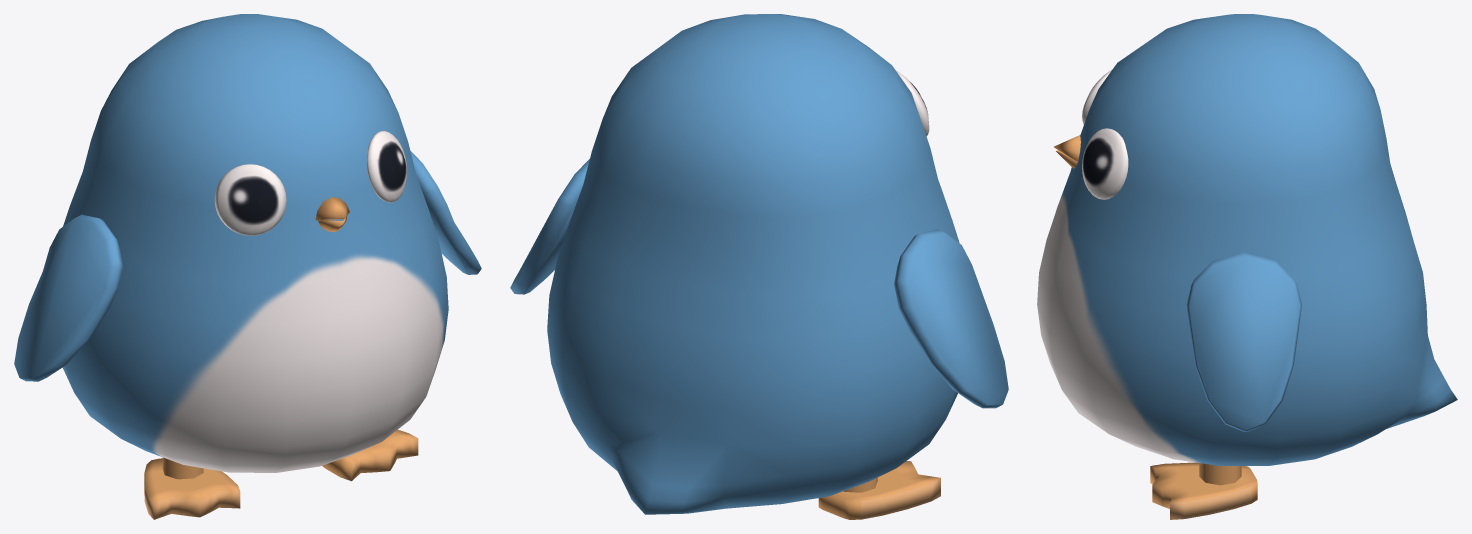
Rendered from Blue_penguin.glb.
3 views of the same model, side by side, from view 1: azimuth 30°, elevation 25°; view 2: azimuth 150°, elevation 25°; view 3: azimuth 270°, elevation 25° (orthographic). The views are drawn at different scales.
Visible parts, largest first — view 1: Penguin body, Wings, Legs, Eyes, Beak; view 2: Penguin body, Wings, Legs; view 3: Penguin body, Wings, Legs, Eyes, Beak.
Part boxes in pixels (x1,y1,x2,y2): Penguin body: (62, 14, 448, 472); Wings: (14, 151, 481, 381); Legs: (144, 429, 418, 519); Eyes: (214, 131, 407, 235); Beak: (315, 197, 349, 232); Penguin body: (547, 14, 959, 514); Wings: (510, 159, 1008, 408); Legs: (818, 461, 940, 519); Penguin body: (1037, 14, 1457, 465); Wings: (1186, 252, 1301, 431); Legs: (1150, 462, 1257, 519); Eyes: (1082, 69, 1128, 199); Beak: (1054, 135, 1080, 168).
Size of the model in its own units: 2.81 by 2.53 by 2.26.
Materials: 1 (1 with a texture image).
